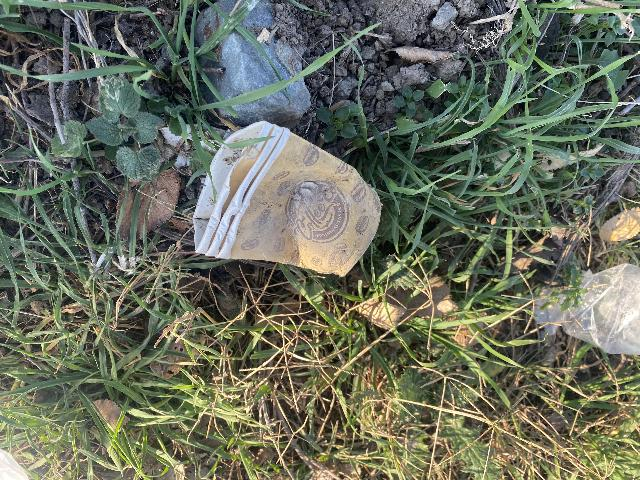Kagit: (178, 83, 419, 286)
